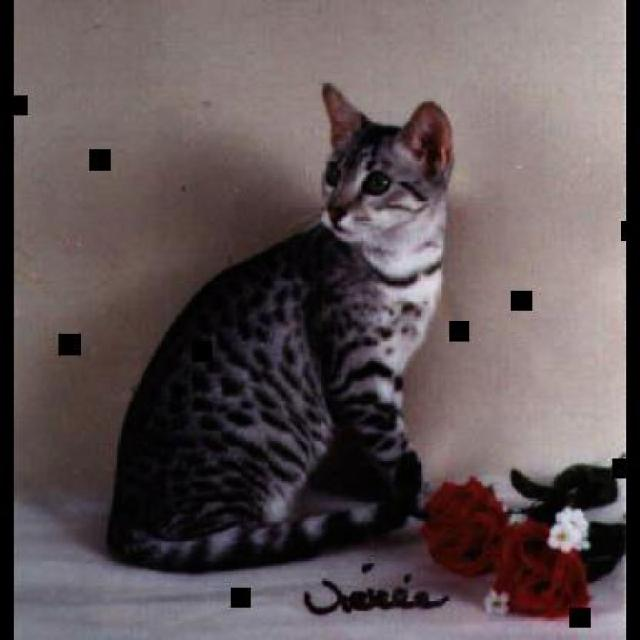unauthorized: (104, 80, 456, 572), (504, 459, 624, 583)
